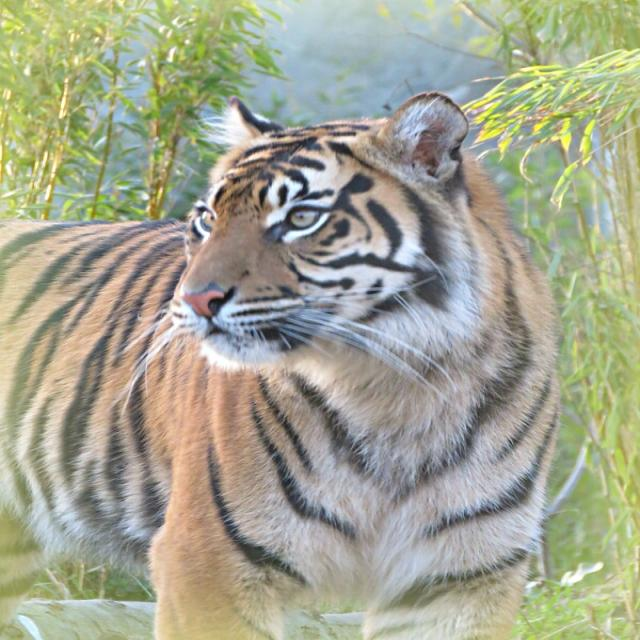Tiger: (12, 83, 573, 616)
